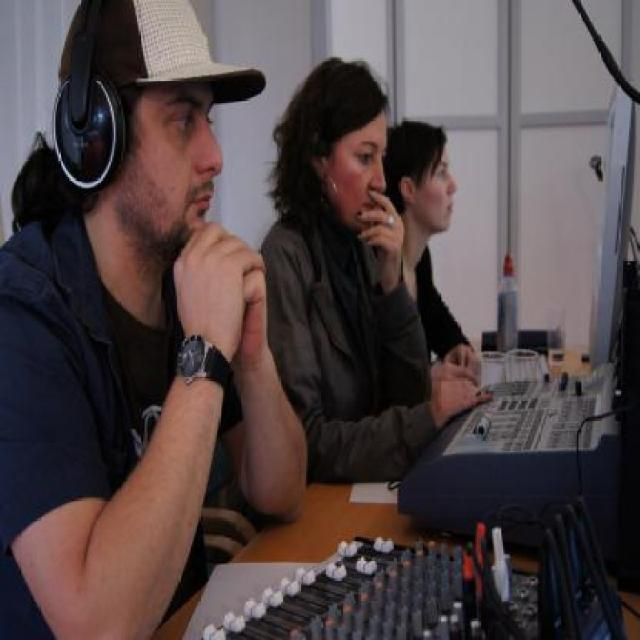earphone: (58, 2, 152, 193), (307, 132, 345, 173)
watch: (170, 323, 255, 405)
